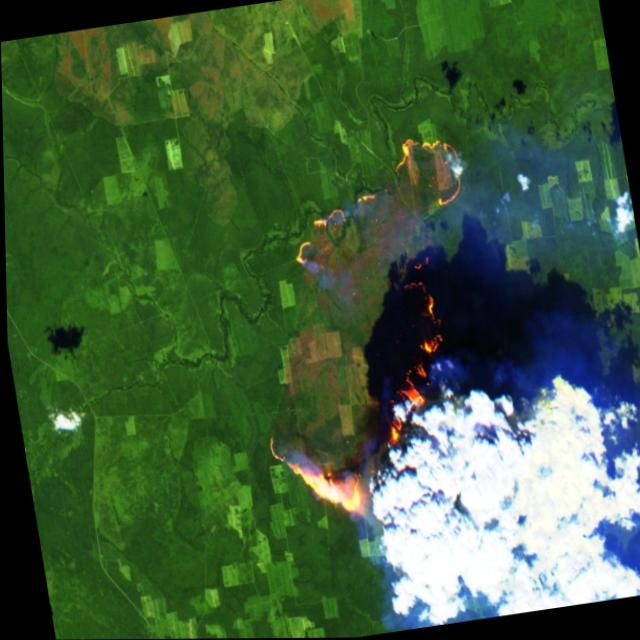fire: (217, 126, 516, 534)
